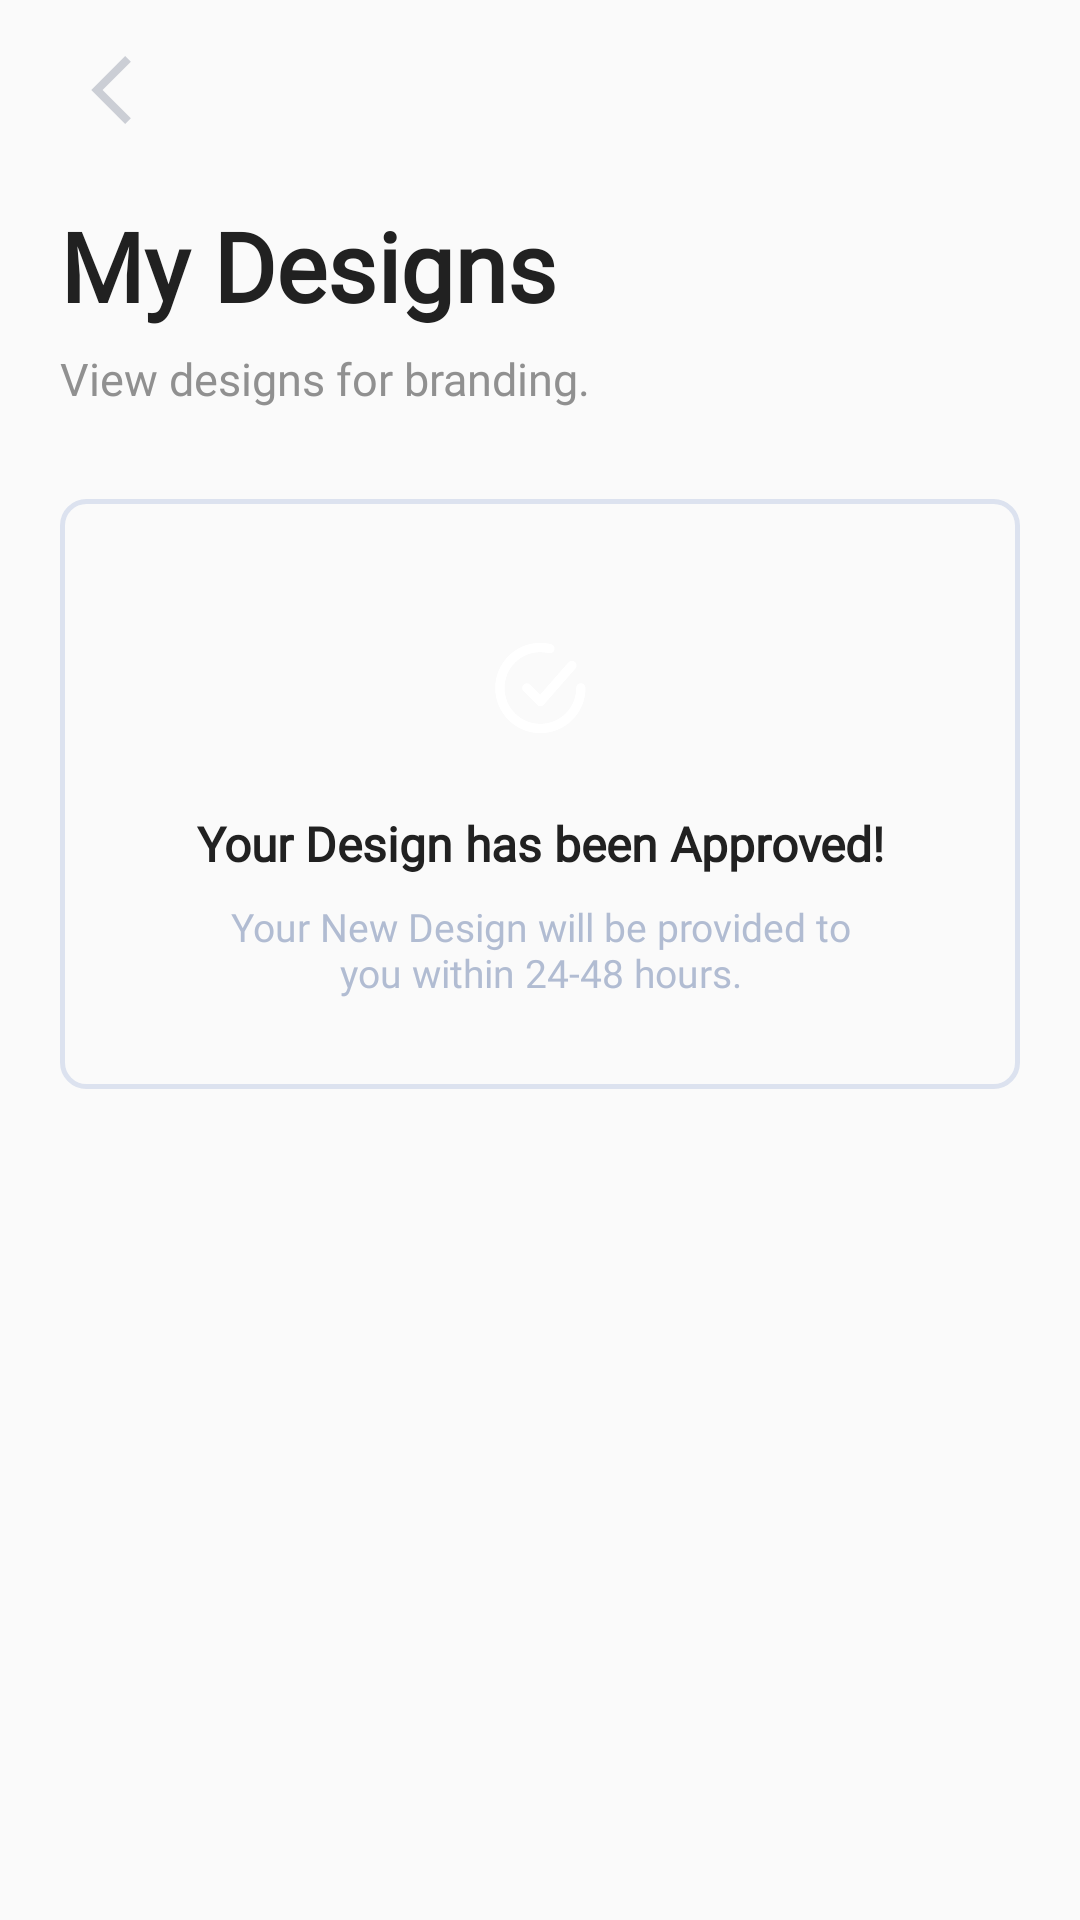

Locate icon controls on the screen. Image size 1080*1920, boxes as (x1, y1, x2, y2).
back: (92, 56, 131, 124)
